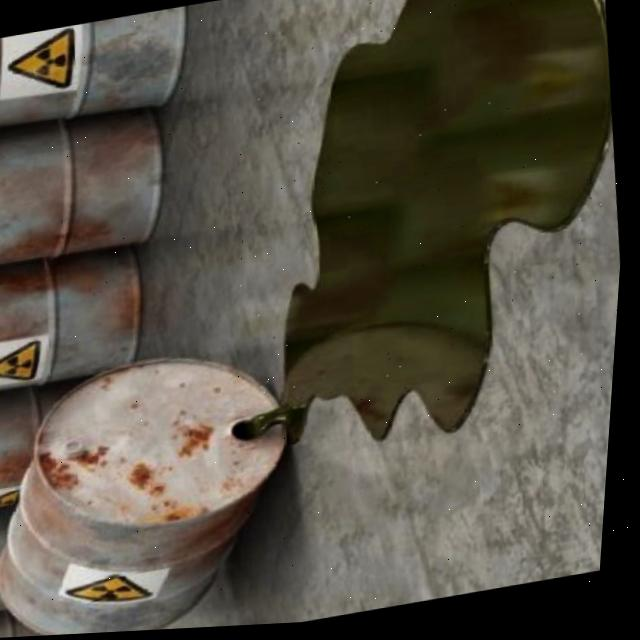spillage: (242, 0, 614, 445)
